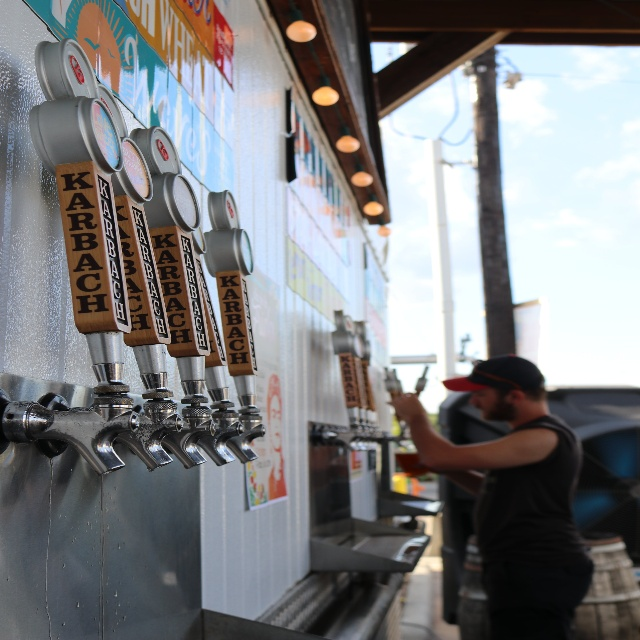Sin_guantes: (387, 391, 425, 427)
